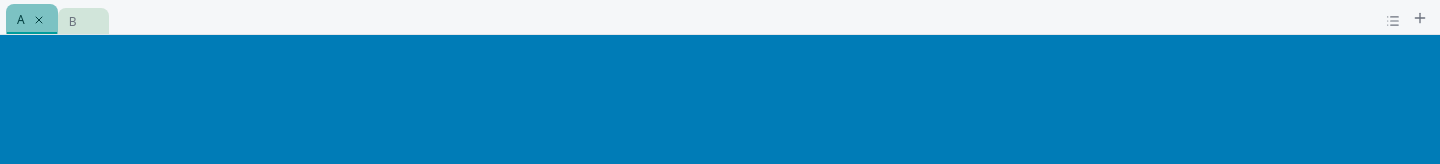
TabBar › 空白处右键弹出全局菜单，含三项
Step 1. Right-click the element showing "A B" → {"x": 720, "y": 18}, box [0,0,1439,35]
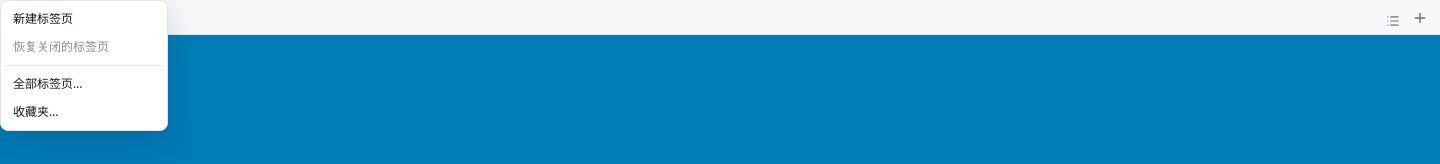
Expected: the button "新建标签页" is shown, [5,5,163,33]
Expected: the button "恢复关闭的标签页" is shown, [5,33,163,61]
Expected: the button "全部标签页…" is shown, [5,70,163,98]
